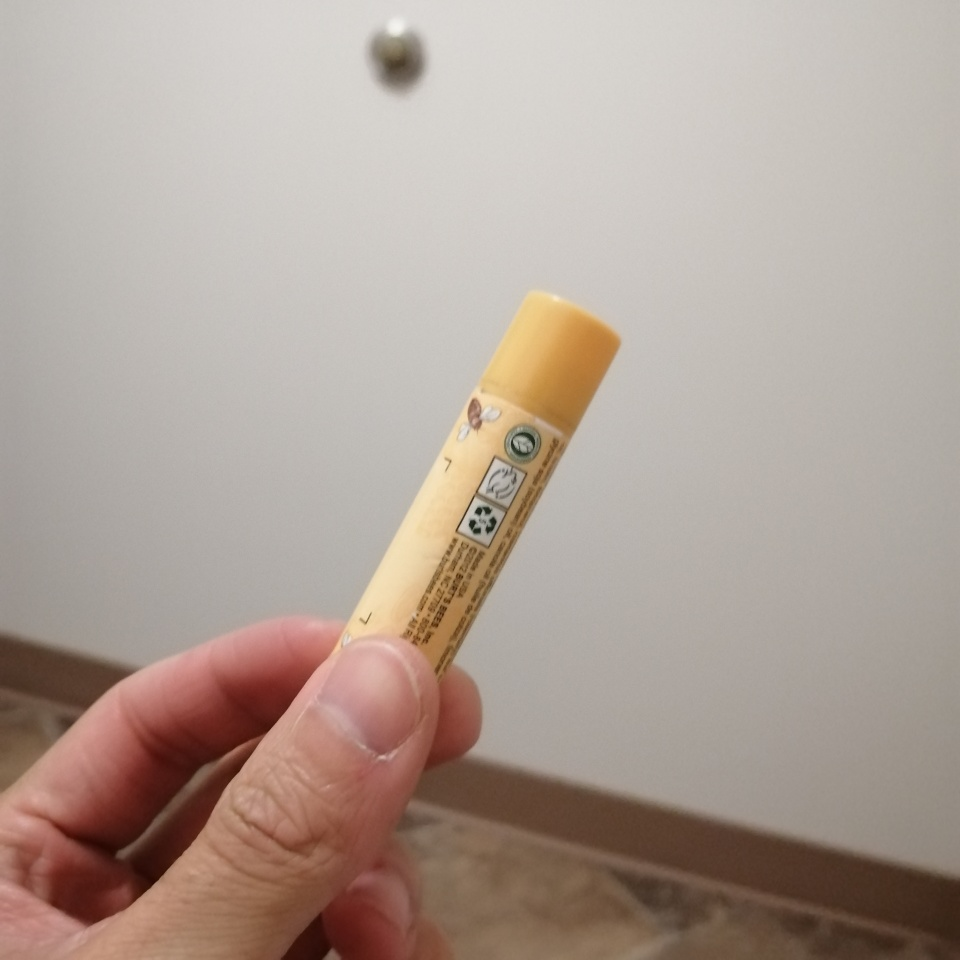chapstick: (328, 290, 620, 676)
